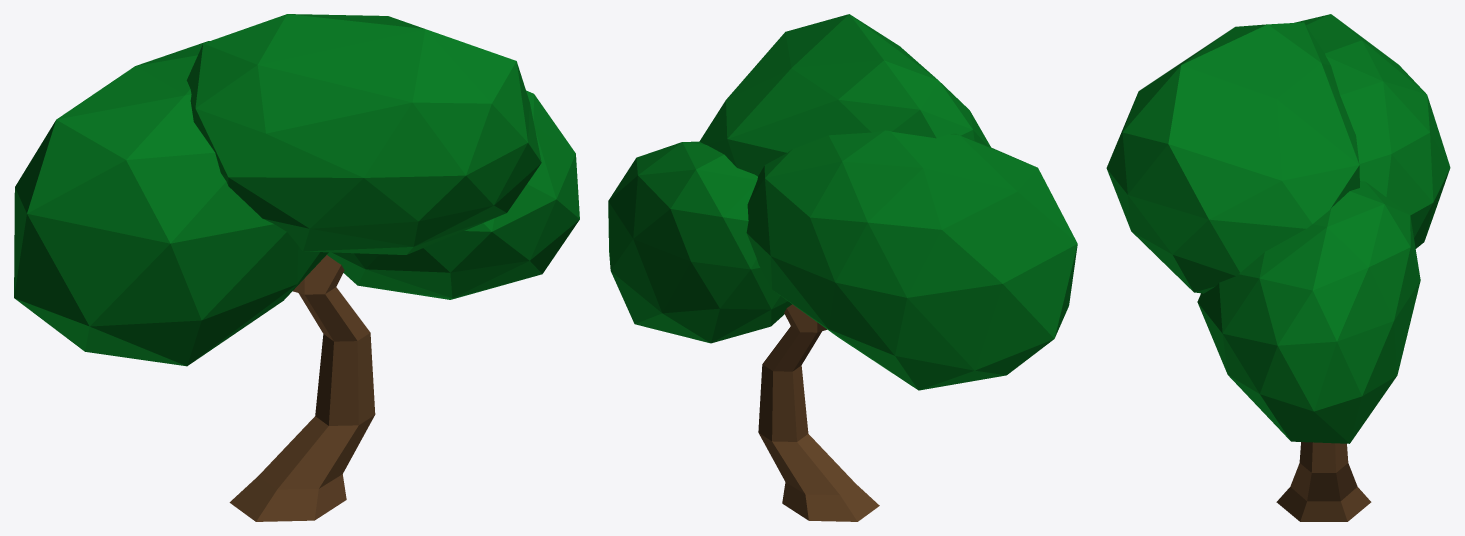
The model's file is tree.fbx.
3 renders of one model, left to right at view 1: azimuth 30°, elevation 25°; view 2: azimuth 150°, elevation 25°; view 3: azimuth 270°, elevation 25°, orthographic. The views are drawn at different scales.
Parts seen in each view (by area): view 1: trunk; view 2: trunk; view 3: trunk.
Part boxes in pixels (box(x1,y1,x2,y2)): trunk: box(14, 14, 579, 521); trunk: box(608, 14, 1077, 521); trunk: box(1106, 14, 1450, 521).
Size of the model in its own units: 5.04 by 7.5 by 8.34.
